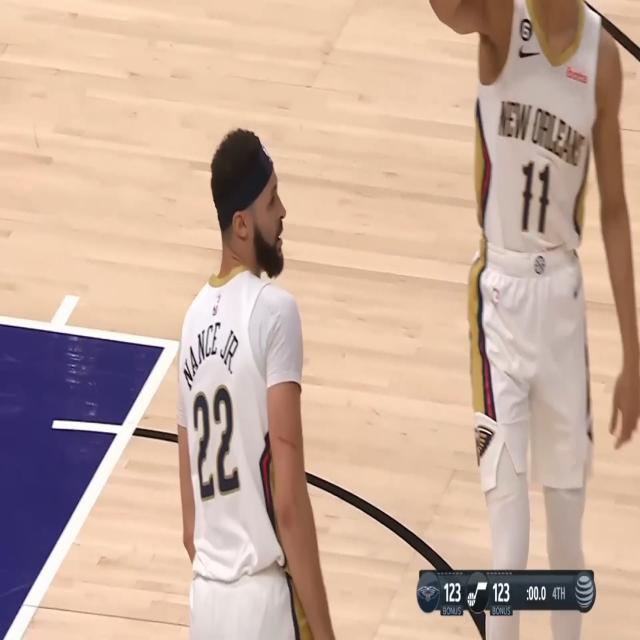Period: (552, 583, 566, 604)
Player: (427, 0, 640, 640), (178, 129, 336, 640)
Shot Clock: (539, 584, 548, 602)
Team Points: (443, 581, 462, 606), (493, 581, 511, 605)
Time Remaining: (525, 583, 539, 603)
